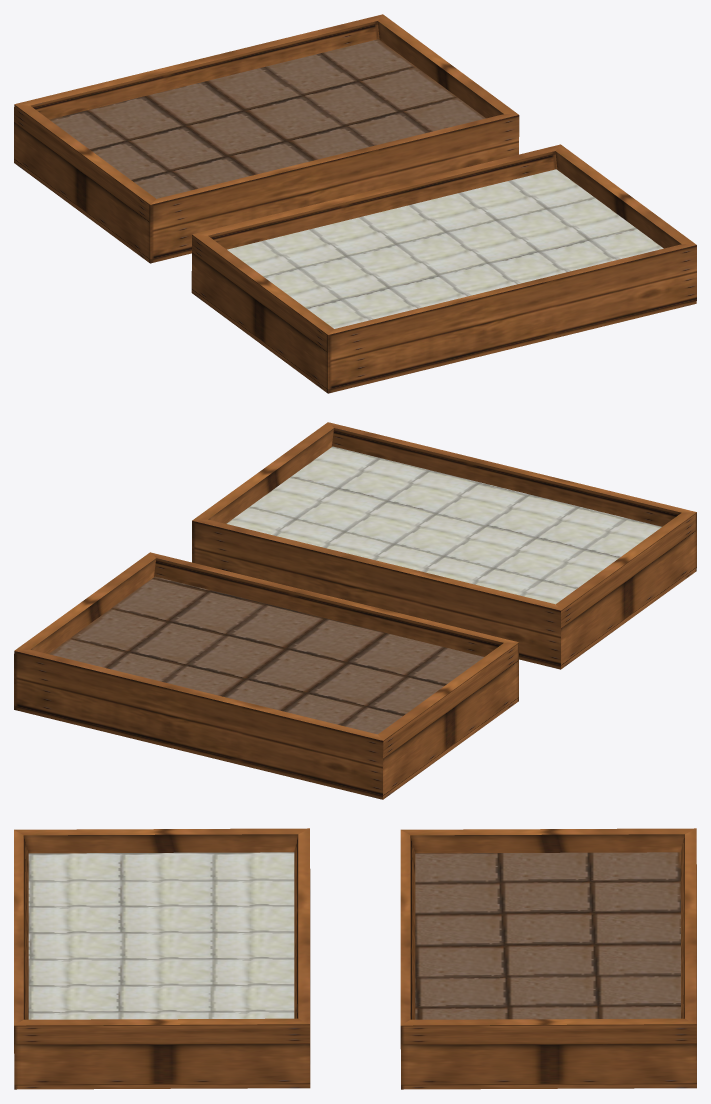
File: dooboo.FBX
3 views of the same model, one above another, from view 1: azimuth 30°, elevation 25°; view 2: azimuth 150°, elevation 25°; view 3: azimuth 270°, elevation 25° (orthographic). The views are drawn at different scales.
Parts seen in each view (by area): view 1: jim_bike:pCube007, jim_bike:pCube008; view 2: jim_bike:pCube008, jim_bike:pCube007; view 3: jim_bike:pCube007, jim_bike:pCube008.
Boxes of the visible parts, bbox=[...] form: jim_bike:pCube007: bbox=[191, 144, 696, 393]; jim_bike:pCube008: bbox=[14, 14, 519, 263]; jim_bike:pCube008: bbox=[14, 552, 518, 799]; jim_bike:pCube007: bbox=[192, 422, 696, 669]; jim_bike:pCube007: bbox=[14, 828, 310, 1089]; jim_bike:pCube008: bbox=[400, 828, 696, 1089].
Size of the model in its own units: 5.85 by 0.9074 by 8.62.
Materials: 2 (2 with a texture image).
